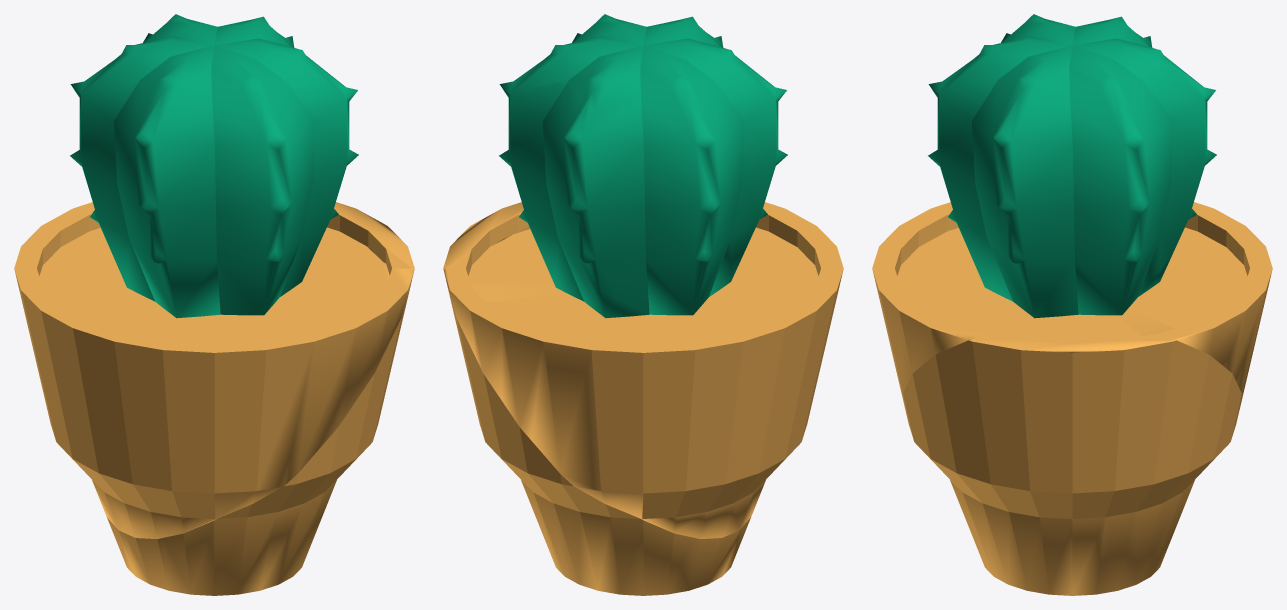
Rendered from cactus-cutted_tapado.fbx.
3 renders of one model, left to right at view 1: azimuth 30°, elevation 25°; view 2: azimuth 150°, elevation 25°; view 3: azimuth 270°, elevation 25°, orthographic.
Parts seen in each view (by area): view 1: ID41_1, cactus_mesh, Object001; view 2: ID41_1, cactus_mesh, Object001; view 3: cactus_mesh, Object001, ID41_1.
Part boxes in pixels (<box>): ID41_1: <box>14,202,414,538</box>; cactus_mesh: <box>70,14,358,318</box>; Object001: <box>107,270,414,595</box>; ID41_1: <box>443,202,843,538</box>; cactus_mesh: <box>499,14,787,318</box>; Object001: <box>443,270,750,595</box>; cactus_mesh: <box>928,14,1216,318</box>; Object001: <box>903,340,1241,595</box>; ID41_1: <box>872,202,1272,409</box>.
Bounding box in the file's own units: 60.13 × 85.45 × 60.13.
